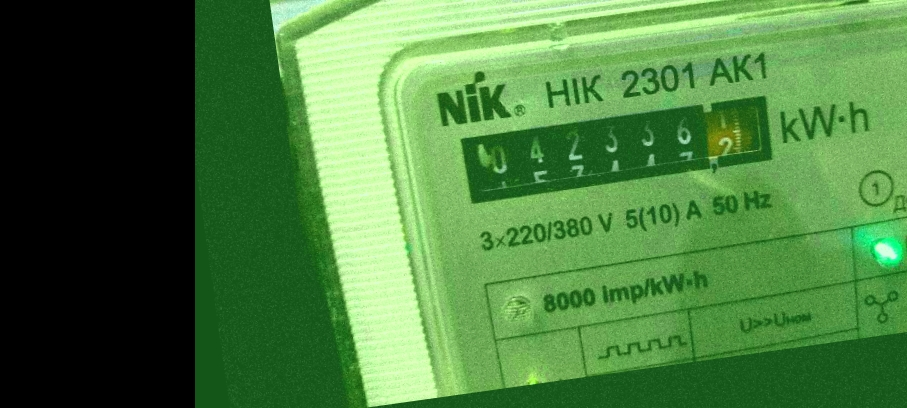0: (486, 141, 510, 177)
1: (713, 104, 729, 132)
2: (561, 126, 586, 163), (714, 135, 734, 158)
3: (597, 121, 620, 155), (636, 115, 657, 150)
4: (525, 132, 547, 166)
6: (671, 112, 696, 149)
screen: (445, 80, 790, 216)
